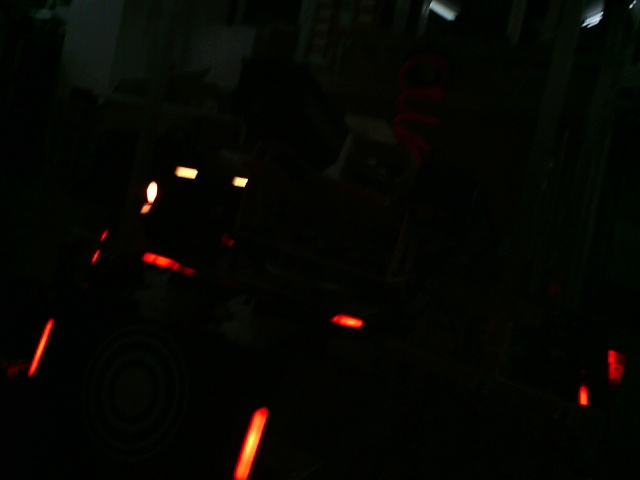lamp: (228, 401, 271, 480), (23, 313, 55, 383)
